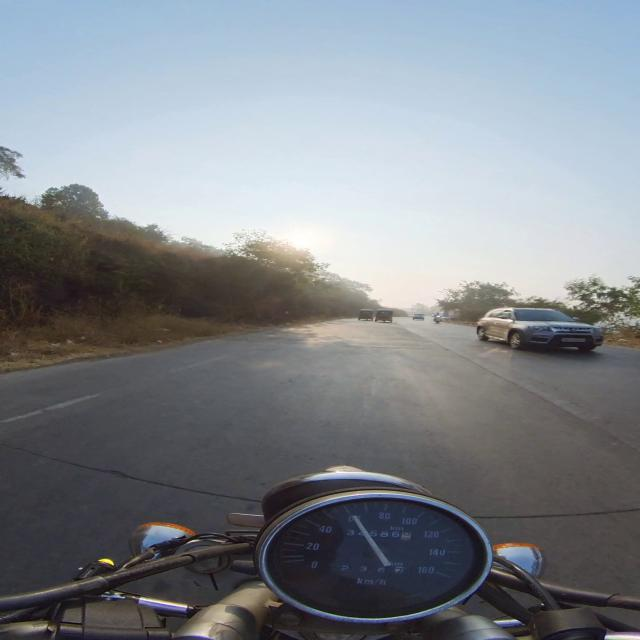car: (477, 308, 603, 351), (413, 313, 425, 320)
motorcycle: (0, 467, 639, 639)
